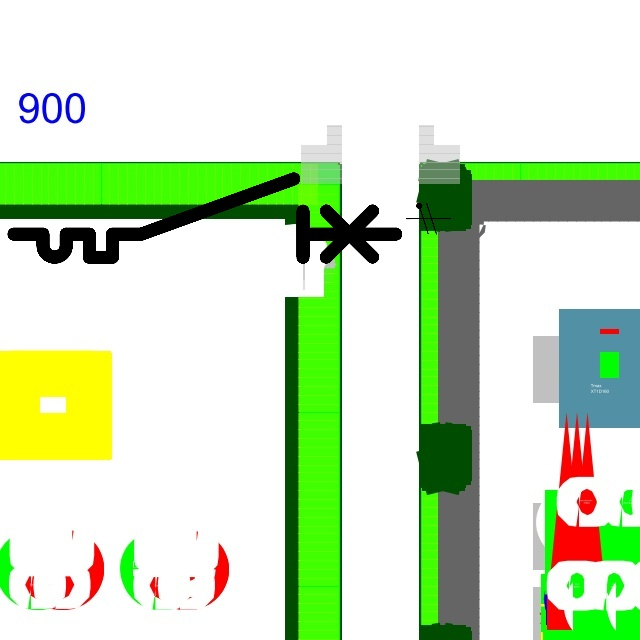interruptor_termomagnetico: (4, 169, 406, 267)
